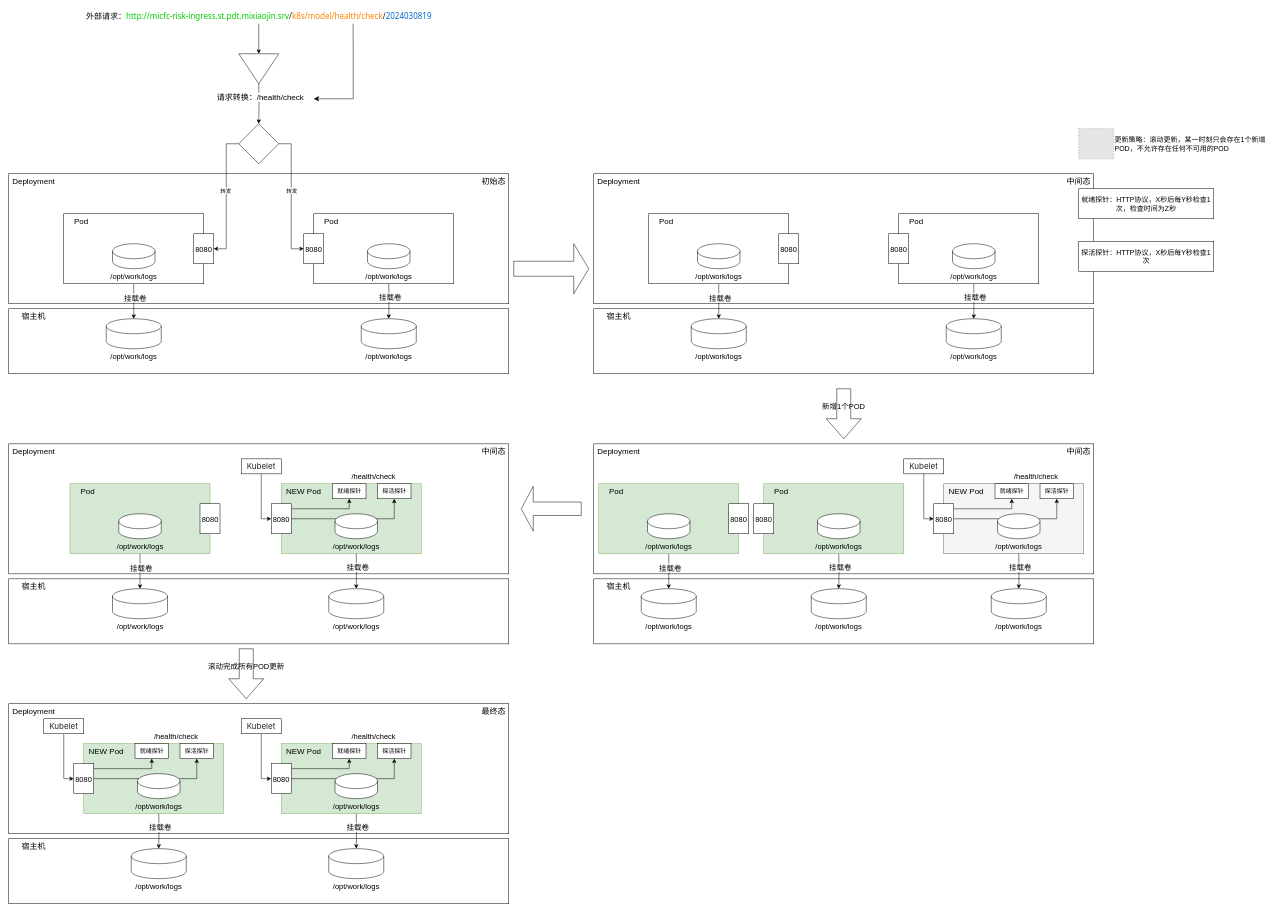
This 1278x913 diagram has some shape labels left out. Grey dashed boxes stand in for pictures. The centre of each missing label's shape, as x and y in pixels:
Ingress: pixel 258 68
Service: pixel 258 143
删除1个POD: pixel 551 508
添加探针与更新策略: pixel 551 268
